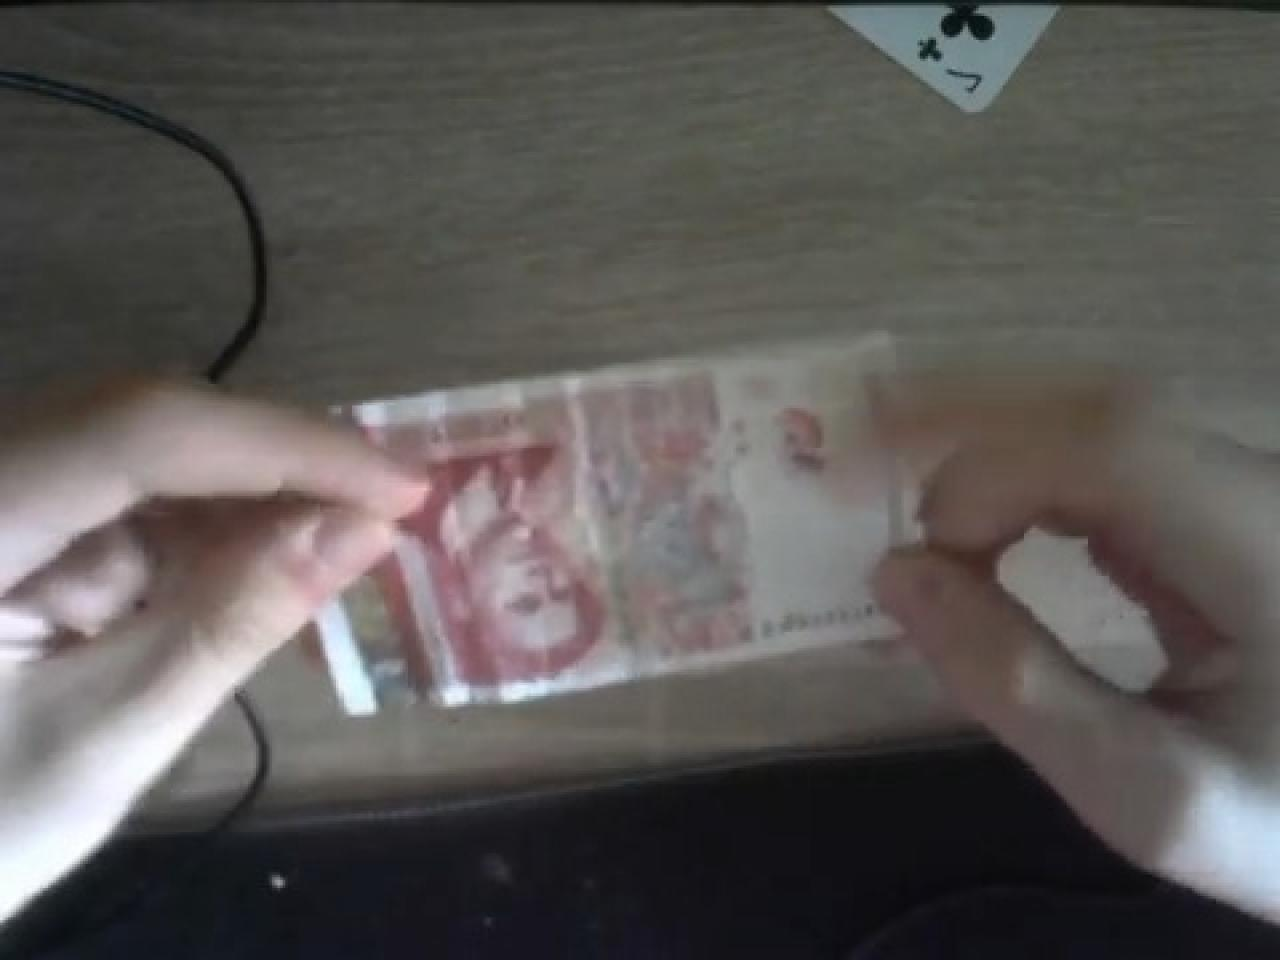5leva: (357, 339, 904, 704)
